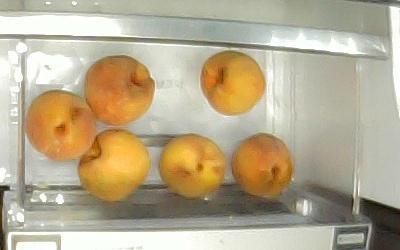peach: (77, 127, 151, 202), (24, 88, 96, 162), (83, 53, 156, 125), (199, 48, 266, 115), (158, 132, 226, 197), (230, 131, 293, 197)
